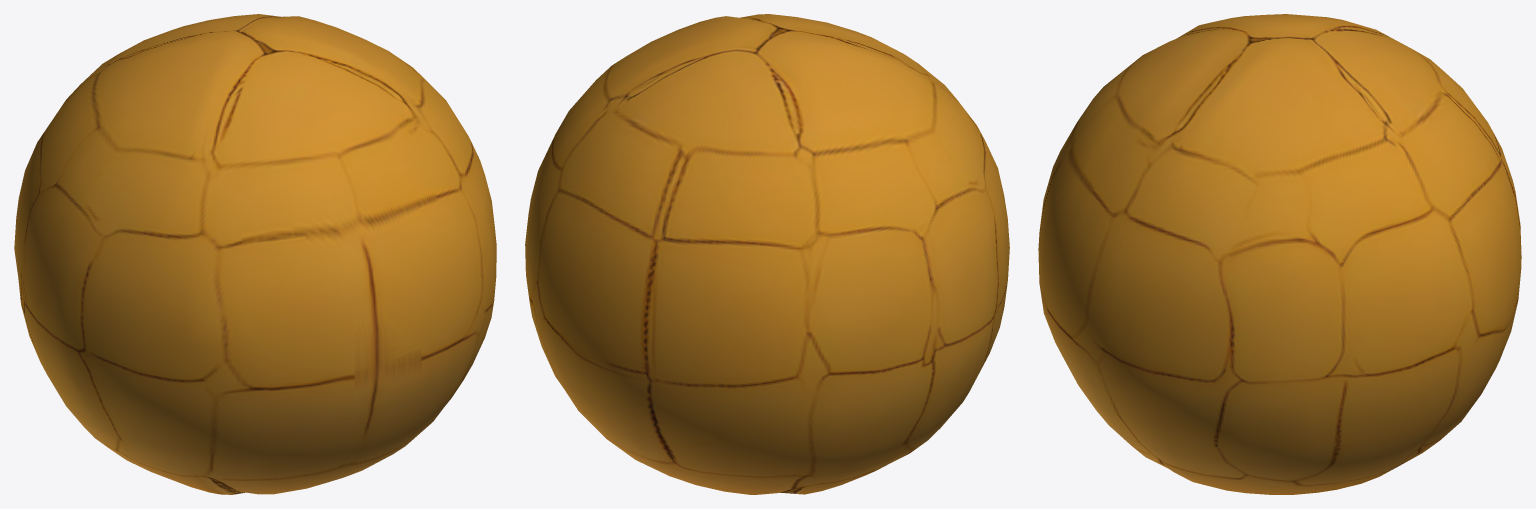
File: 07-6493256-Golden-Soccer-Ball-model-pack.glb
3 renders of one model, left to right at view 1: azimuth 30°, elevation 25°; view 2: azimuth 150°, elevation 25°; view 3: azimuth 270°, elevation 25°, orthographic.
Visible parts, largest first — view 1: Retopo_neural_node_afb0922a-1d4e-495e-8955-c2db04e38df9; view 2: Retopo_neural_node_afb0922a-1d4e-495e-8955-c2db04e38df9; view 3: Retopo_neural_node_afb0922a-1d4e-495e-8955-c2db04e38df9.
Boxes of the visible parts, x1,y1,x2,y2 form: Retopo_neural_node_afb0922a-1d4e-495e-8955-c2db04e38df9: [14, 14, 496, 494]; Retopo_neural_node_afb0922a-1d4e-495e-8955-c2db04e38df9: [525, 14, 1009, 494]; Retopo_neural_node_afb0922a-1d4e-495e-8955-c2db04e38df9: [1038, 14, 1521, 494].
Bounding box in the file's own units: 0.9485 × 0.9474 × 0.9484.
1 material, 1 textured.
